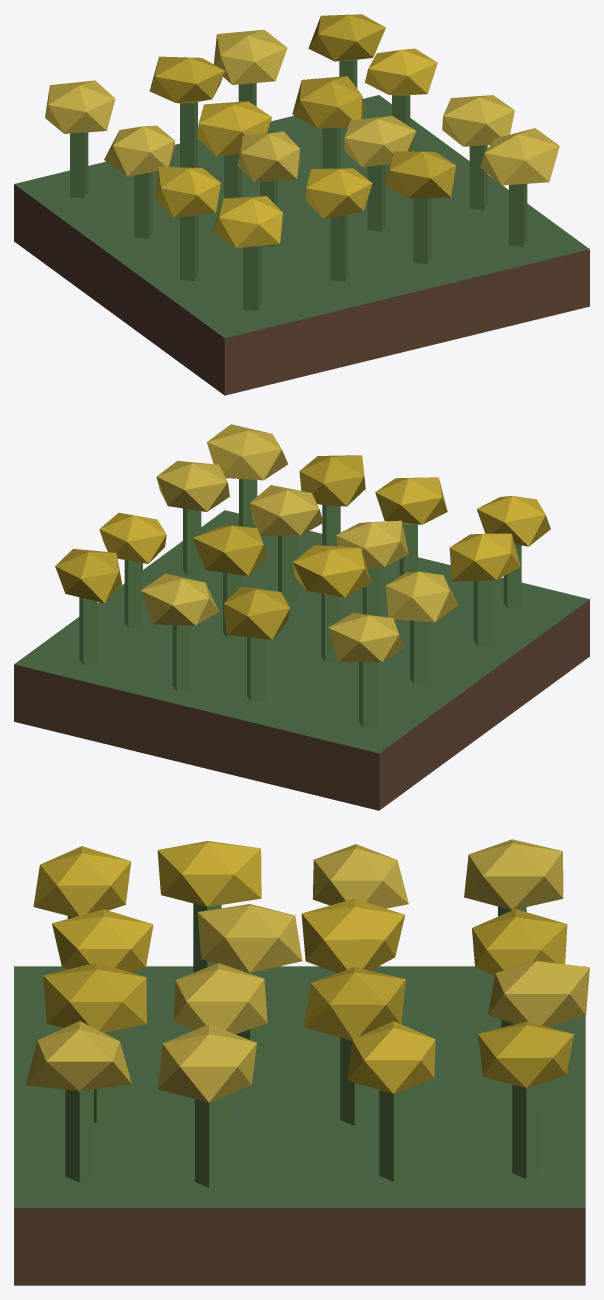
File: t_canola.glb
The picture shows the model from 3 angles, top to bottom: view 1: azimuth 30°, elevation 25°; view 2: azimuth 150°, elevation 25°; view 3: azimuth 270°, elevation 25°; orthographic projection. The views are drawn at different scales.
Visible parts, largest first — view 1: t_canola; view 2: t_canola; view 3: t_canola.
Boxes of the visible parts, x1,y1,x2,y2 form: t_canola: (14,14,589,395); t_canola: (14,424,589,810); t_canola: (14,839,589,1285).
Bounding box in the file's own units: 2 × 0.87 × 2.01.
